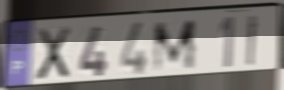1: (219, 14, 235, 70)
4: (77, 23, 110, 79), (119, 19, 149, 77)
I: (246, 14, 259, 68)
M: (151, 18, 198, 75)
X: (35, 24, 73, 83)
